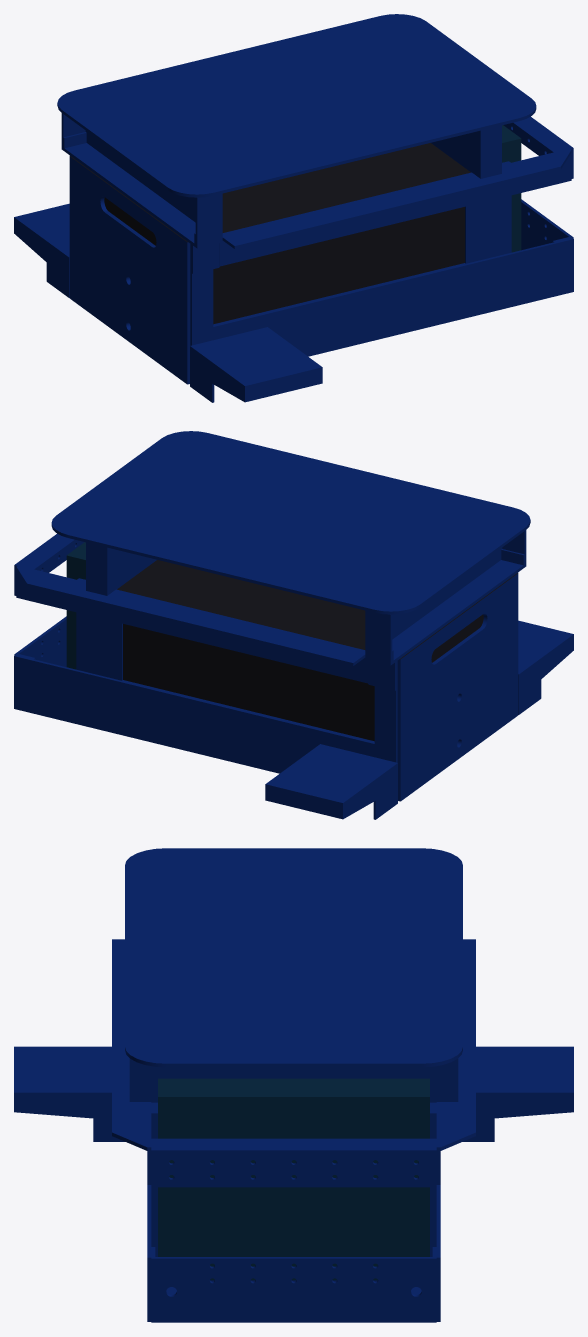
File: magni_body.dae
3 views of the same model, one above another, from view 1: azimuth 30°, elevation 25°; view 2: azimuth 150°, elevation 25°; view 3: azimuth 270°, elevation 25° (orthographic). The views are drawn at different scales.
Visible parts, largest first — view 1: _3DGeom_175, _3DGeom_176, Body_1, Body_2, _3DGeom_174; view 2: _3DGeom_175, _3DGeom_176, Body_2, Body_1, _3DGeom_174; view 3: _3DGeom_175, _3DGeom_174, Body_1, Body_2.
Part boxes in pixels (x1,y1,x2,y2): _3DGeom_175: (57, 14, 573, 384); _3DGeom_176: (70, 143, 470, 324); Body_1: (190, 327, 322, 402); Body_2: (14, 203, 69, 297); _3DGeom_174: (502, 125, 521, 252); _3DGeom_175: (14, 431, 530, 801); _3DGeom_176: (117, 560, 517, 741); Body_2: (265, 744, 397, 819); Body_1: (518, 620, 573, 714); _3DGeom_174: (66, 542, 85, 669); _3DGeom_175: (112, 848, 475, 1322); _3DGeom_174: (158, 1078, 429, 1280); Body_1: (14, 1046, 124, 1141); Body_2: (463, 1046, 573, 1141).
Size of the model in its own units: 0.412 by 0.412 by 0.194.
